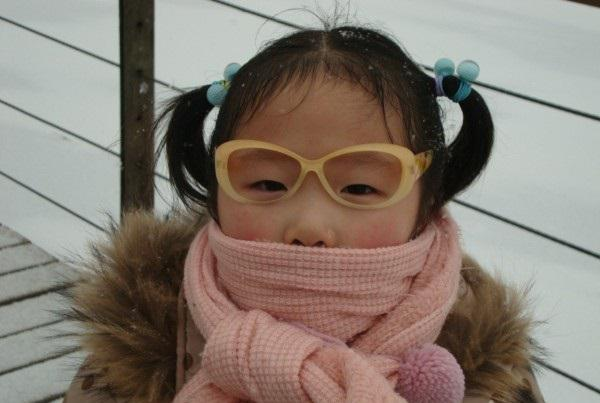WRONG: (209, 144, 400, 335)
